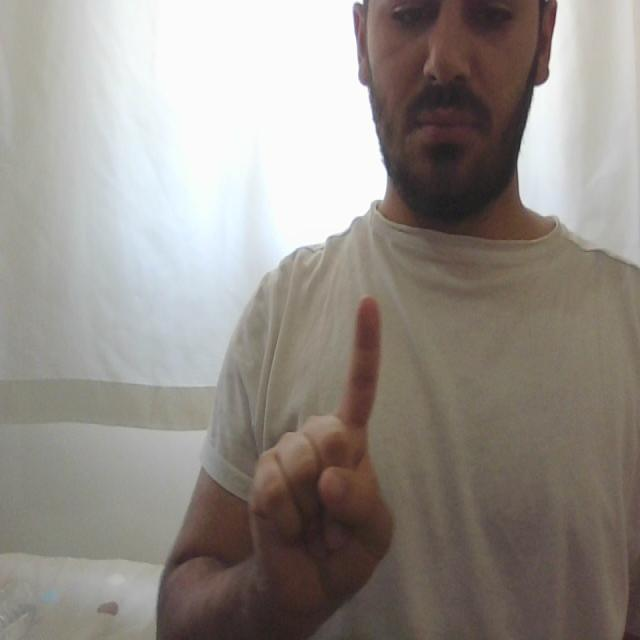Hayir: (238, 273, 408, 625)
